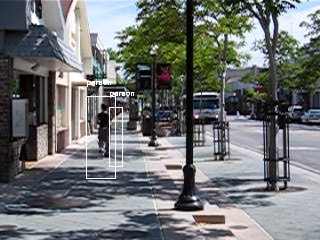person: (95, 105, 114, 162), (94, 105, 113, 162), (96, 105, 115, 162), (95, 104, 114, 161), (95, 106, 114, 163)
target_negative: (20, 40, 154, 209), (90, 48, 303, 128), (164, 29, 305, 141), (183, 35, 236, 107)
